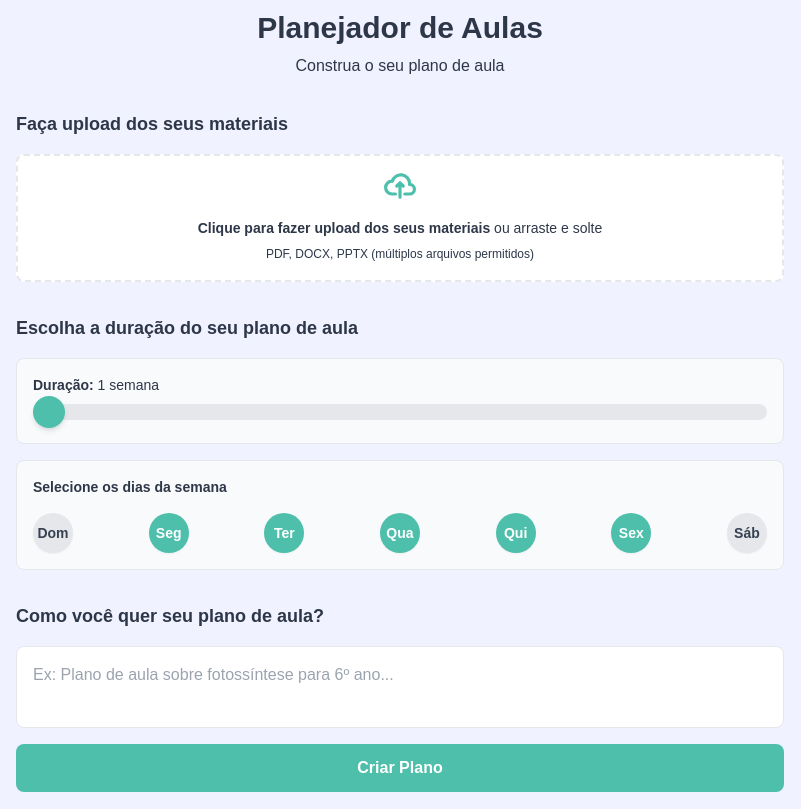
PlannerPage › should update weeks count
Set the slider to "2": (72, 412) [33,404,767,420]
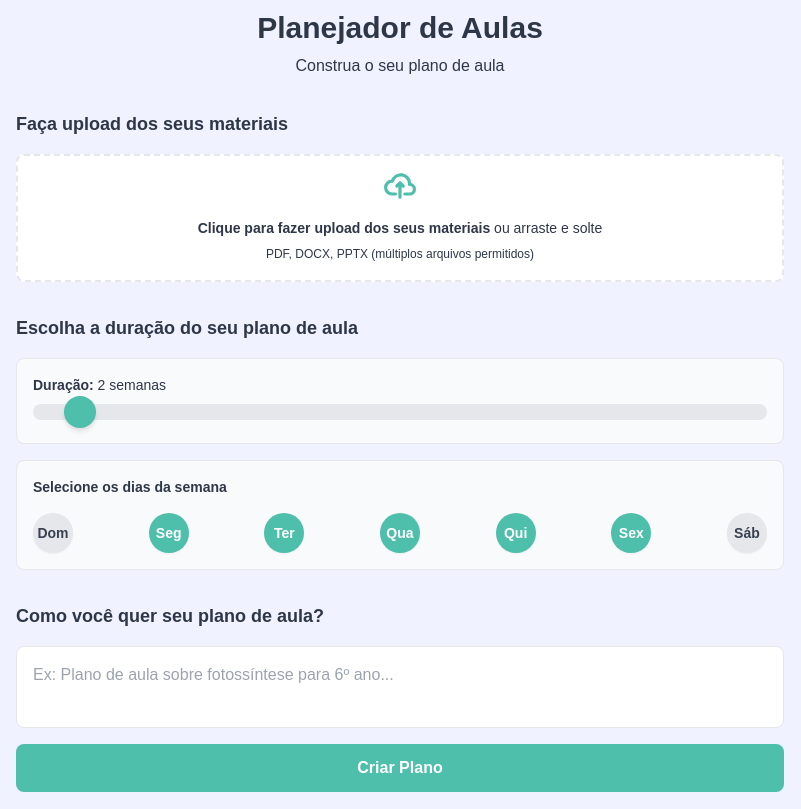
Expected: the text "2 semanas" is shown, [98,377,166,393]
